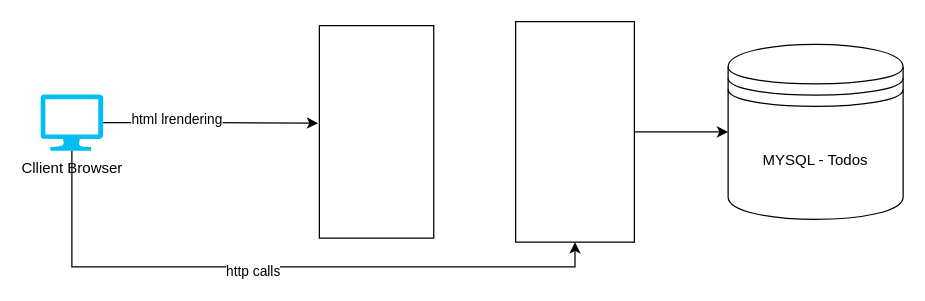
Some shapes in this 925 by 301 pixel diagram are drawn without their labels. The centre of each missing label's shape, as x and y in pixels:
NextJS front end server: the point at 376,131
Todos Service: the point at 574,131
